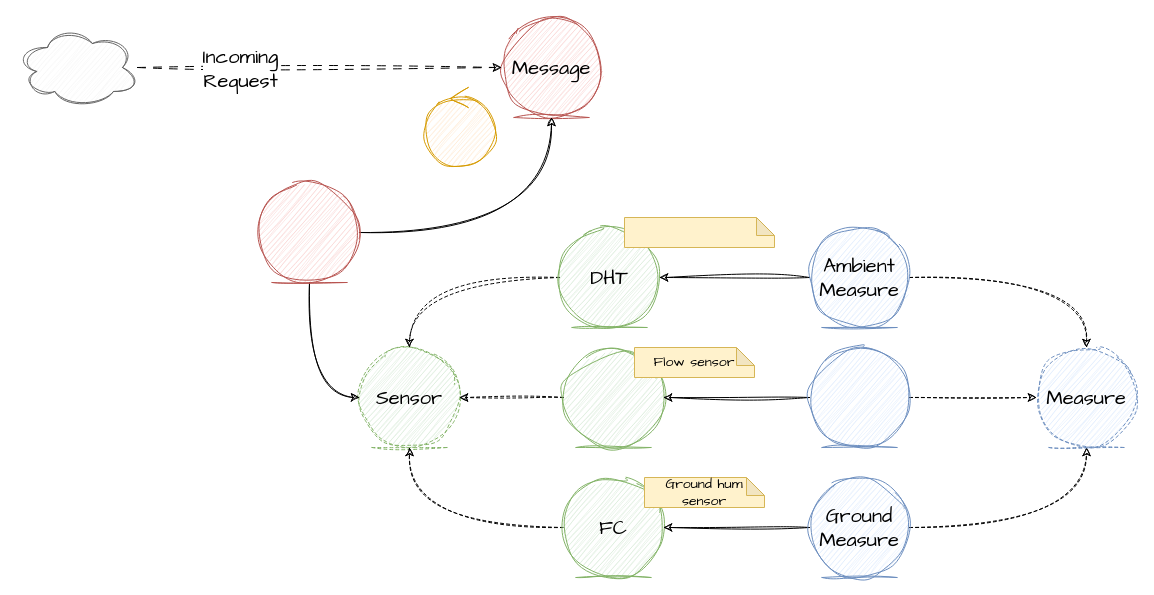
This 1154x595 diagram has some shape labels left out. The shapes that lost their labels are listed below. From the top down, each one's box as (x1, y1, x2, y2) in pixels, then its label:
(424, 86, 494, 168): Processor
(258, 182, 360, 282): Processing Error
(624, 216, 774, 248): Air temp & hum sensor
(562, 346, 664, 448): YFS
(808, 346, 910, 448): Watering Measure
